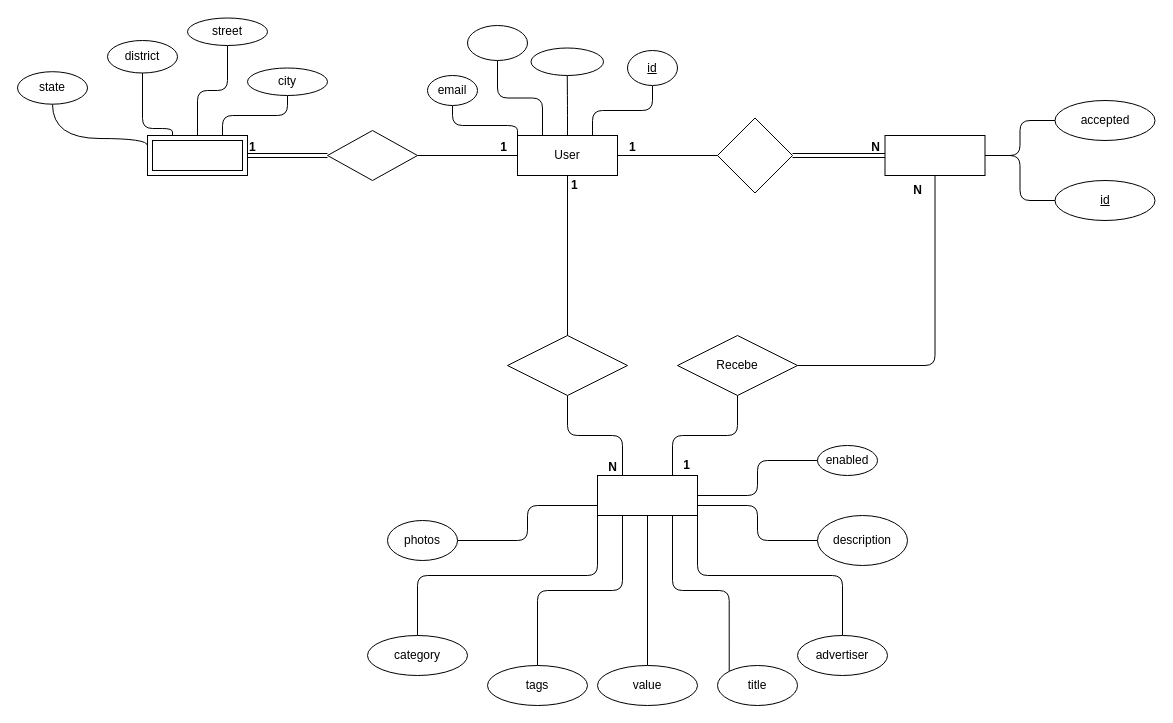
Some shapes in this 1173 by 723 pixel diagram are drawn without their labels. The box of each missing label's shape, as (x1, y1, x2, y2) in pixels:
Aceita: (716, 117, 792, 193)
Address: (146, 134, 248, 176)
Announcement: (596, 474, 698, 516)
Cria: (506, 334, 628, 396)
phone: (466, 24, 528, 60)
Possui: (326, 130, 418, 180)
Proposal: (884, 134, 985, 176)
username: (530, 47, 604, 76)
